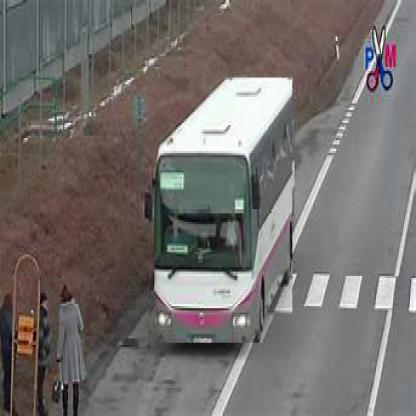bus: (150, 78, 295, 346)
